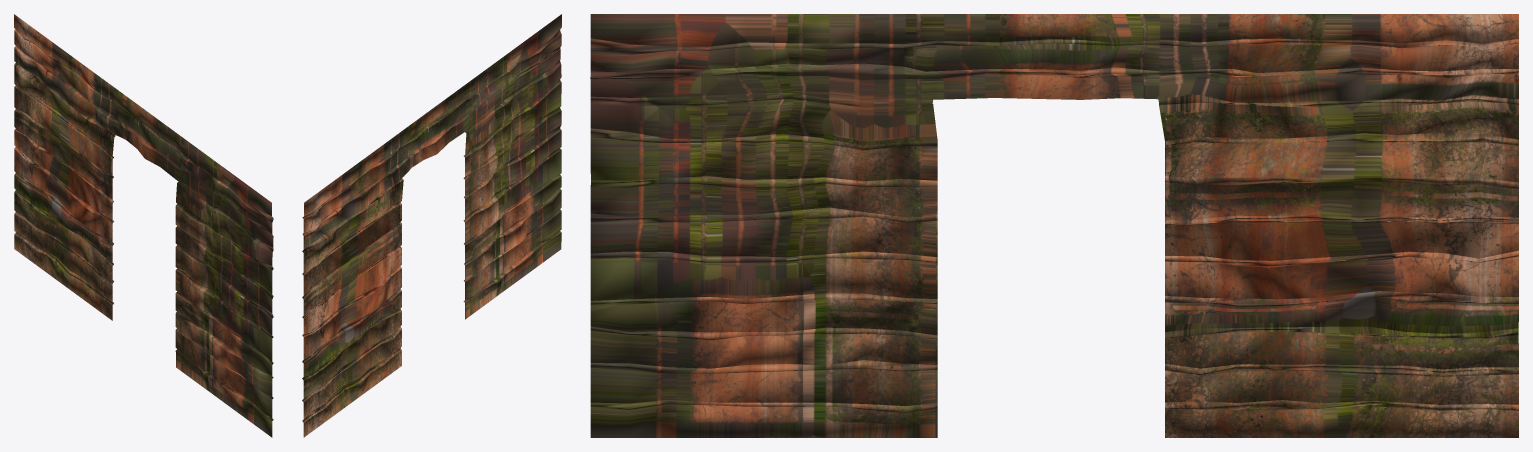
Rendered from lalallaalala.fbx.
3 views of the same model, side by side, from view 1: azimuth 30°, elevation 25°; view 2: azimuth 150°, elevation 25°; view 3: azimuth 270°, elevation 25° (orthographic). The views are drawn at different scales.
Visible parts, largest first — view 1: WallwDoor; view 2: WallwDoor; view 3: WallwDoor.
Part boxes in pixels (bbox=[...]): WallwDoor: bbox=[14, 14, 273, 437]; WallwDoor: bbox=[302, 14, 561, 437]; WallwDoor: bbox=[590, 14, 1518, 437].
Bounding box in the file's own units: 5.81 × 219 × 436.
